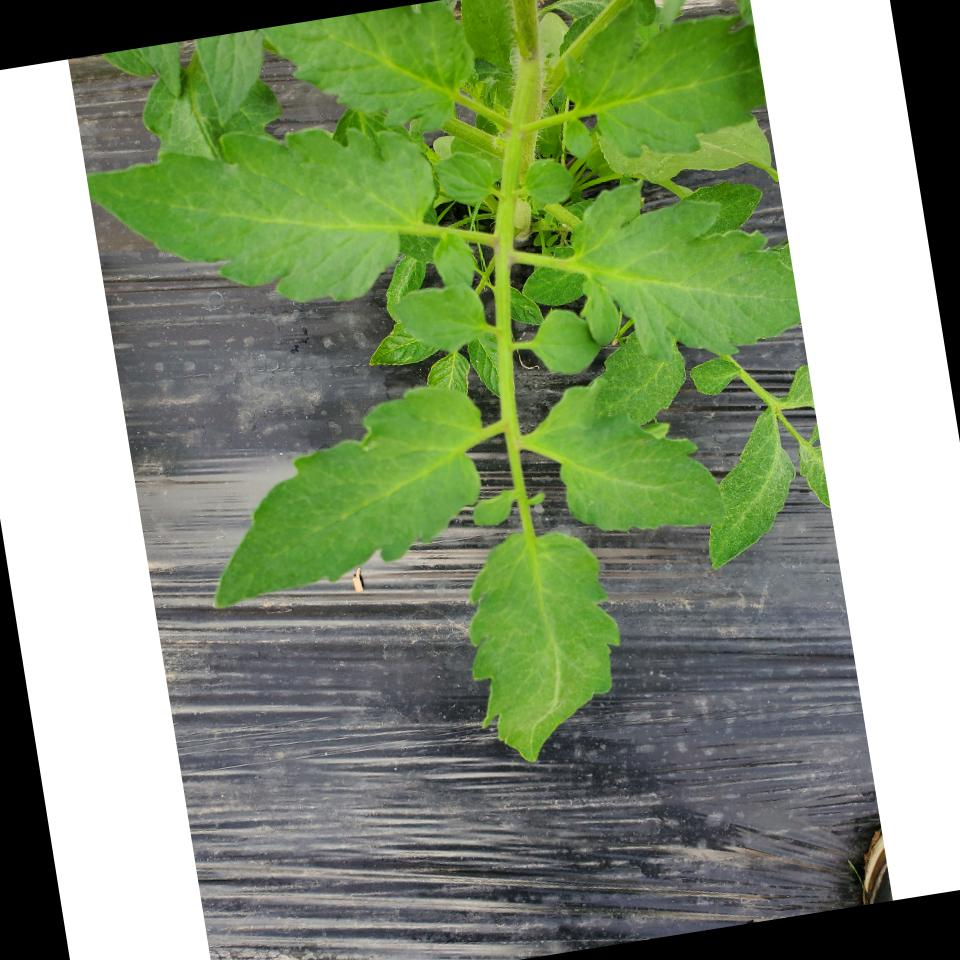tomato_leaves: (84, 112, 453, 340), (188, 380, 504, 614), (571, 161, 803, 369), (456, 522, 636, 770), (560, 0, 771, 164), (534, 406, 726, 545)
